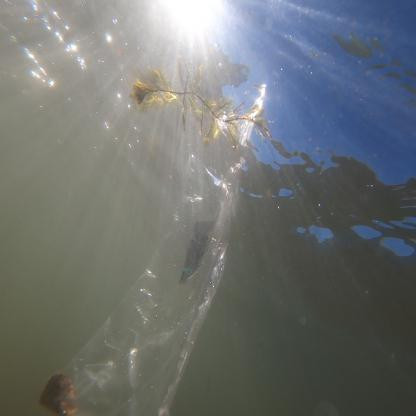Rác: (58, 77, 260, 415)
